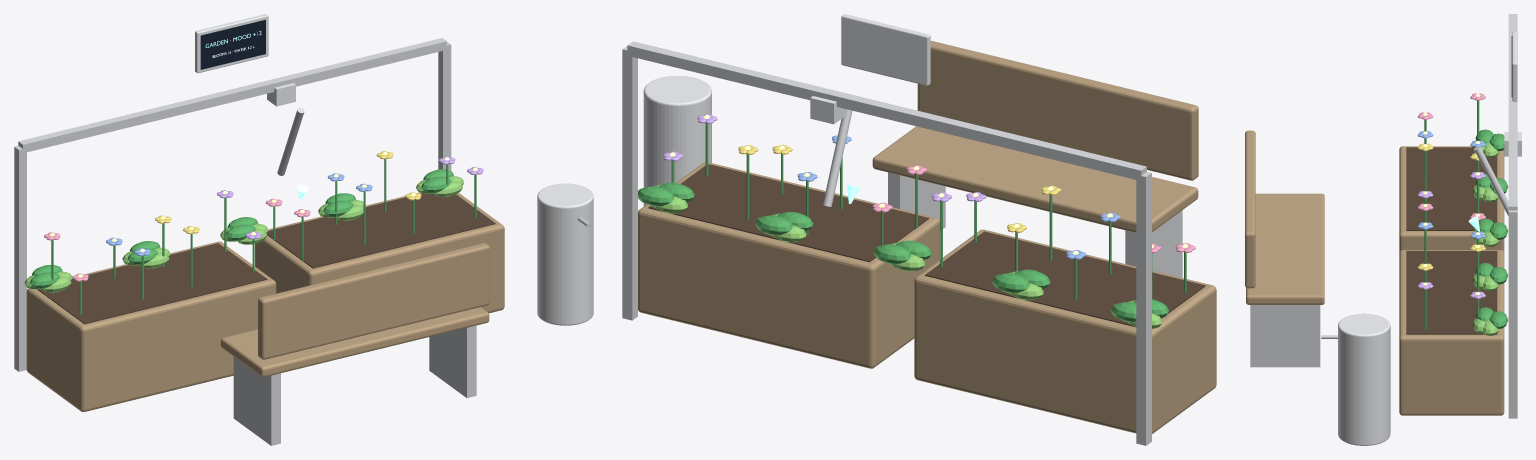
The model's file is emotional_garden.glb.
3 views of the same model, side by side, from view 1: azimuth 30°, elevation 25°; view 2: azimuth 150°, elevation 25°; view 3: azimuth 270°, elevation 25° (orthographic). The views are drawn at different scales.
Visible parts, largest first — view 1: Arm_Carriage; view 2: Arm_Carriage; view 3: Arm_Carriage.
Part boxes in pixels (box(x1,y1,x2,y2)): Arm_Carriage: box(14, 14, 593, 445); Arm_Carriage: box(622, 14, 1216, 445); Arm_Carriage: box(1245, 14, 1521, 445).
Size of the model in its own units: 3.03 by 1.72 by 1.58.
Materials: 4 (4 with a texture image).
